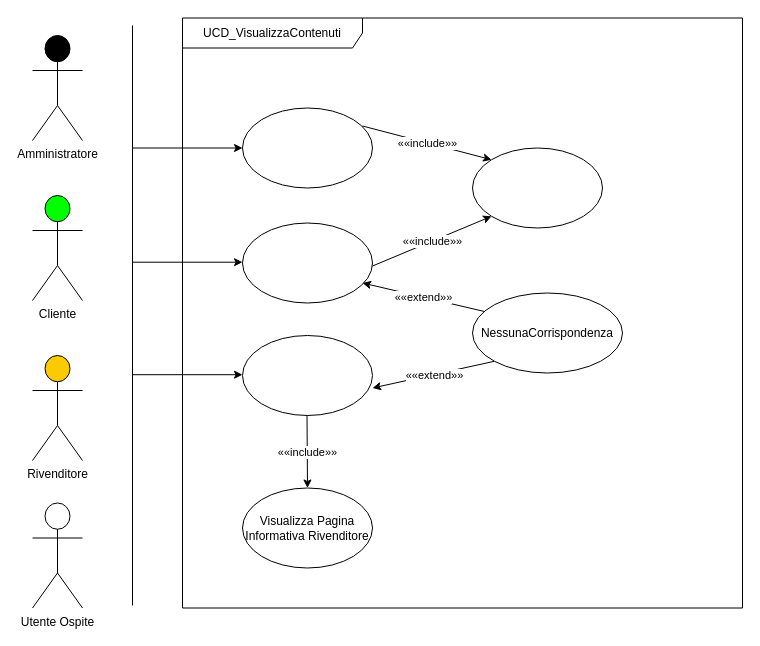
The diagram is 760 pixels wide and 646 high, and some of its shapes have lost their labels. The shapes that lost their labels are listed below. From the top down, each one's box as (x1, y1, x2, y2) in pixels, then its label:
(242, 107, 372, 188): Ricerca Prodotto per Categoria
(472, 147, 602, 228): Visualizza Pagina Singolo Prodotto
(242, 222, 372, 303): Ricerca Prodotto per Parola Chiave
(242, 334, 372, 416): Ricerca Rivenditore
